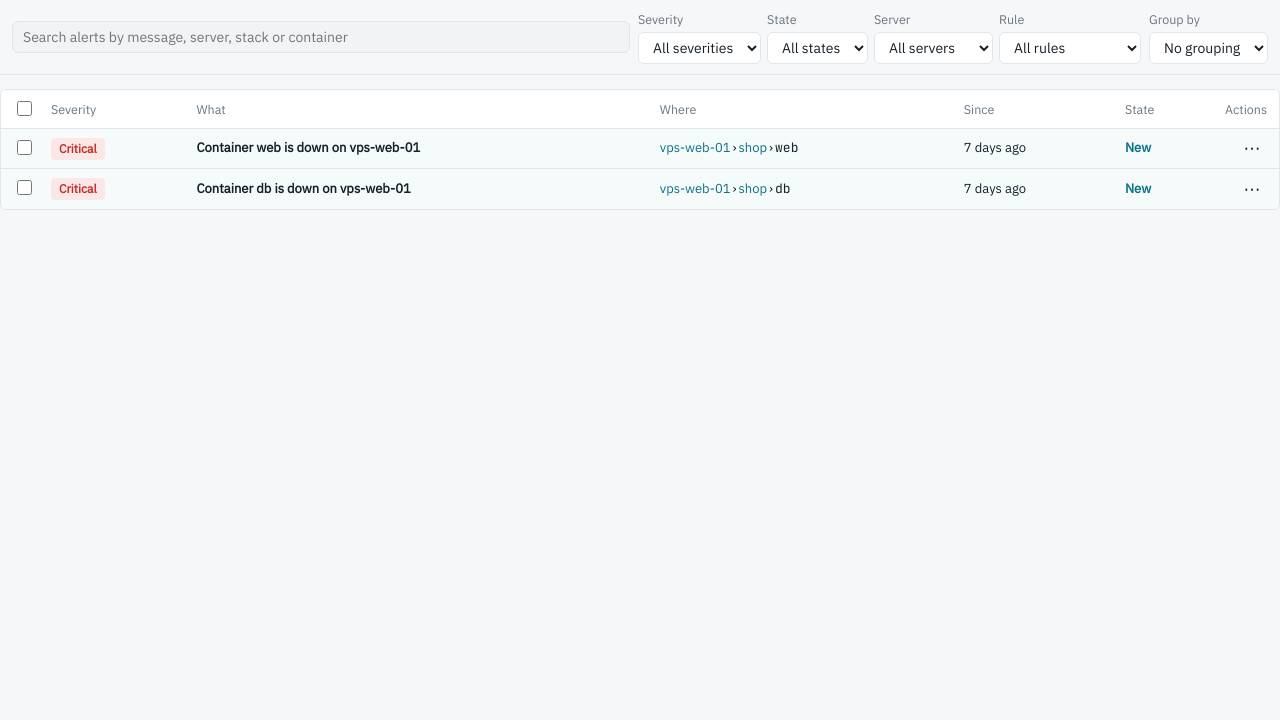
Inbox › acknowledges every allowed selected alert and reloads once
Click the checkbox named "Select all" at (24, 109), box [17,101,32,116]
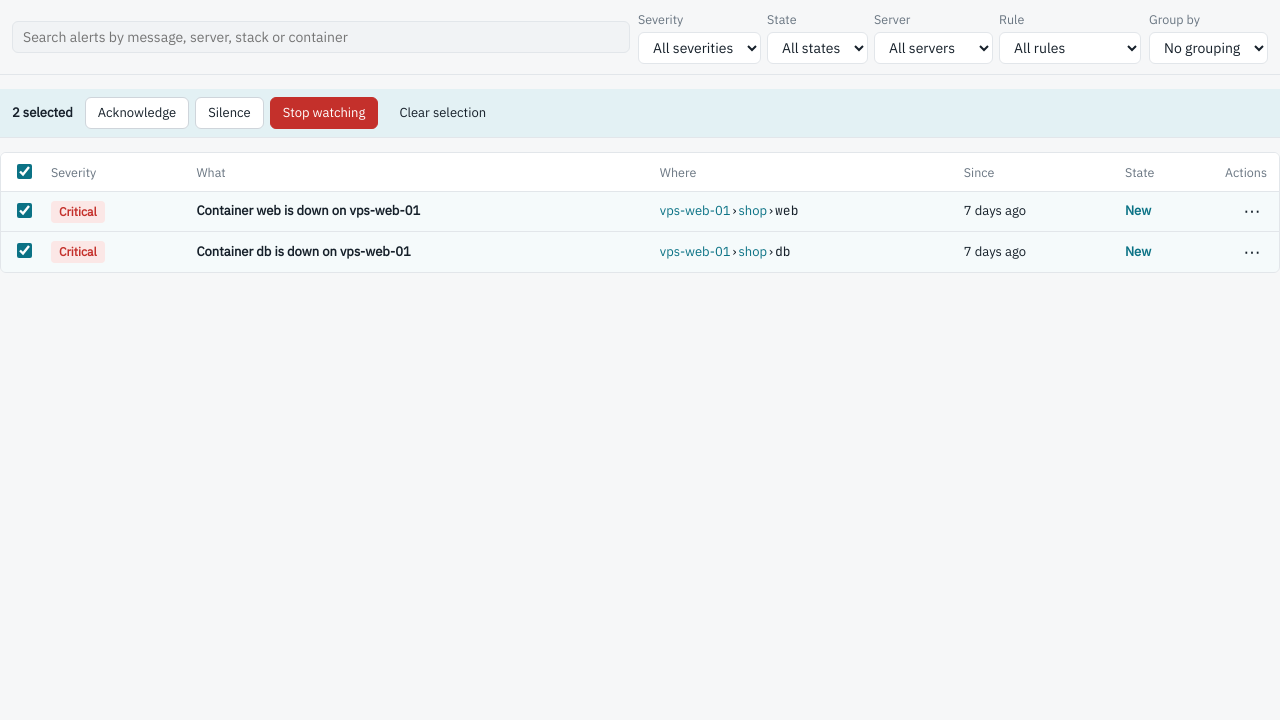
Click the button "Acknowledge" at (137, 113), box [85,97,189,129]
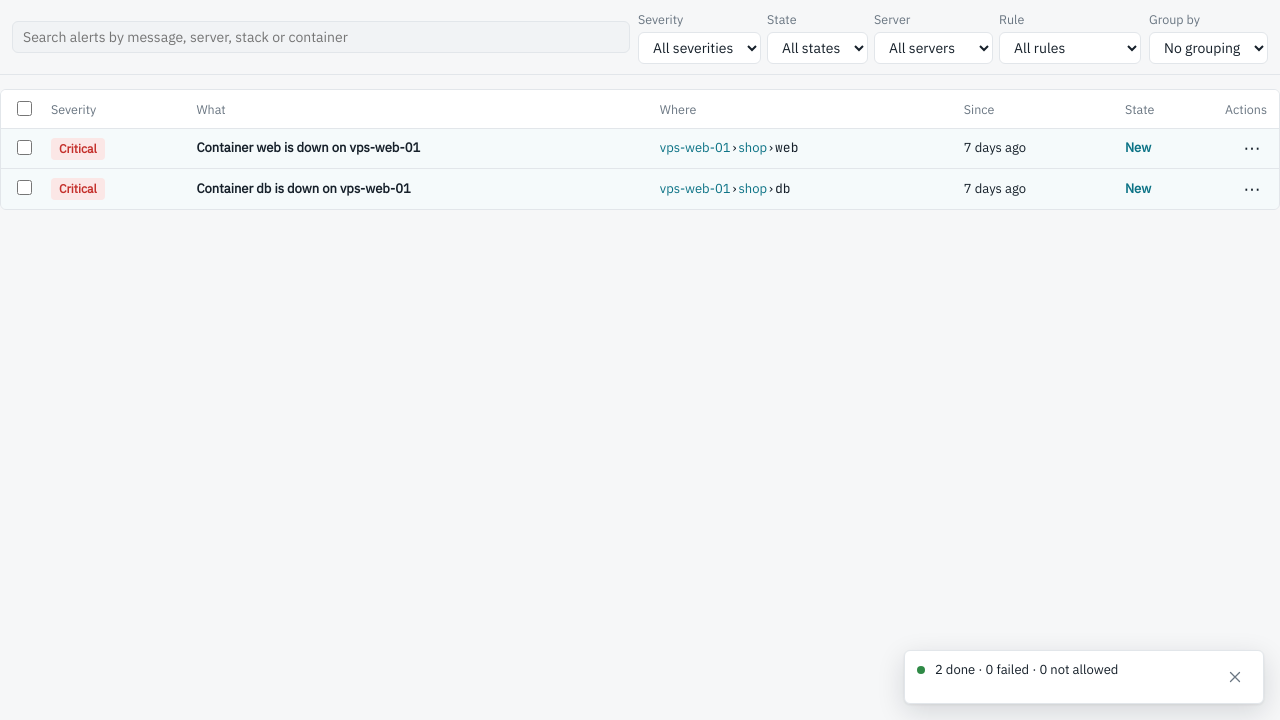
Result: the text "2 done · 0 failed · 0 not allowed" is shown at [935,661,1118,678]
